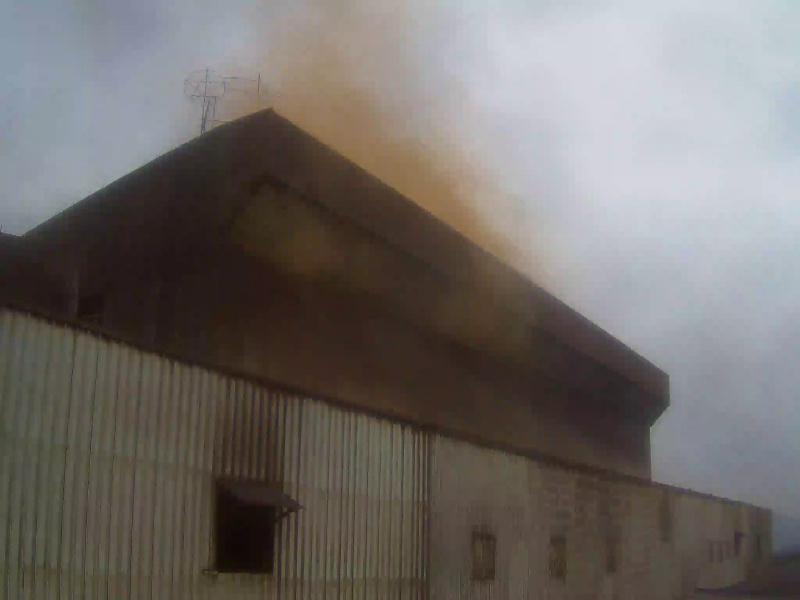Pessimo: (225, 1, 534, 347)
